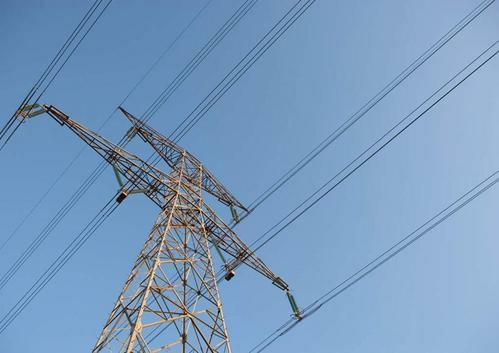power_tower: (19, 92, 300, 353)
